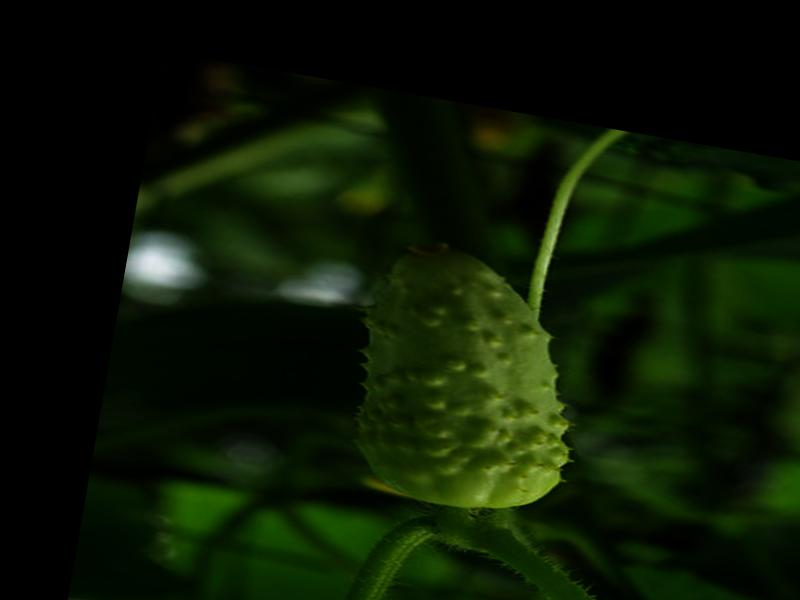Cucumber: (339, 230, 603, 525)
